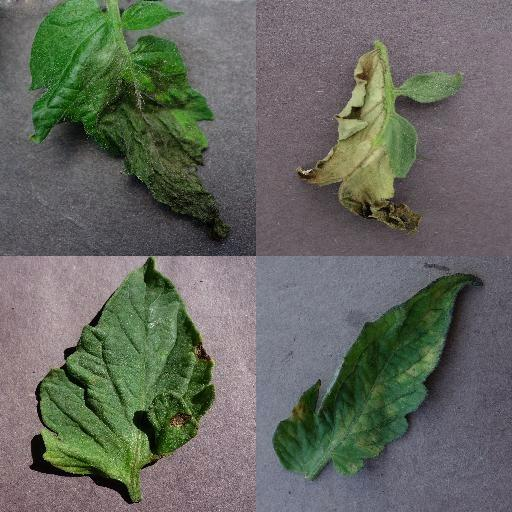Early Blight: (37, 258, 215, 478)
Late Blight: (29, 0, 233, 240), (295, 48, 423, 234)
Leaf Mold: (272, 273, 480, 479)
